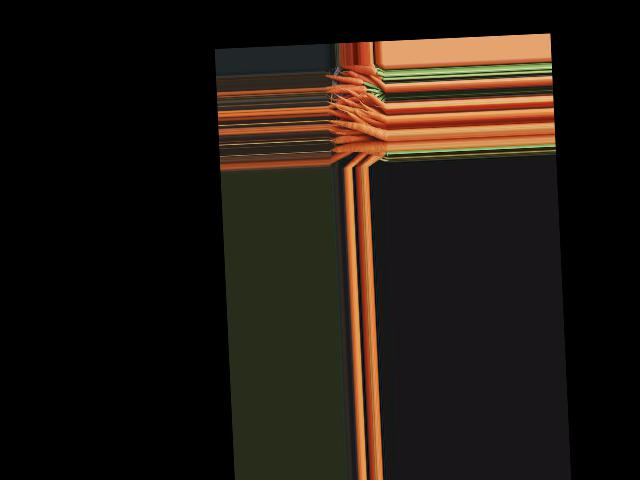carrot: (343, 63, 378, 75)
